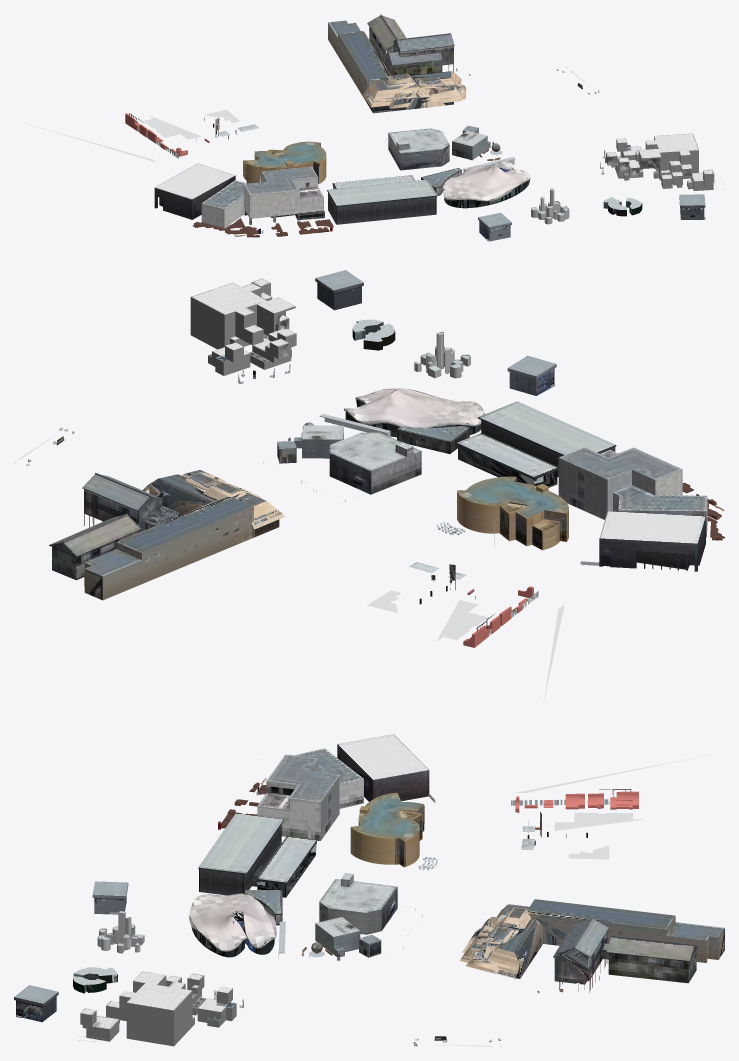
The picture shows the model from 3 angles, top to bottom: view 1: azimuth 30°, elevation 25°; view 2: azimuth 150°, elevation 25°; view 3: azimuth 270°, elevation 25°; orthographic projection. The views are drawn at different scales.
Visible parts, largest first — view 1: Buildings_建物パビリオン, Facilities_都市設備; view 2: Buildings_建物パビリオン, Facilities_都市設備; view 3: Buildings_建物パビリオン, Facilities_都市設備.
Part boxes in pixels (x1=…): Buildings_建物パビリオン: x1=24, y1=14, x2=714, y2=241; Facilities_都市設備: x1=125, y1=66, x2=722, y2=237; Buildings_建物パビリオン: x1=17, y1=270, x2=707, y2=703; Facilities_都市設備: x1=14, y1=363, x2=724, y2=647; Buildings_建物パビリオン: x1=14, y1=734, x2=724, y2=1046; Facilities_都市設備: x1=78, y1=759, x2=638, y2=1046.
Size of the model in its own units: 218 by 16.18 by 223.
70 materials, 67 textured.
